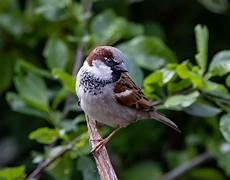bird: (76, 46, 179, 151)
